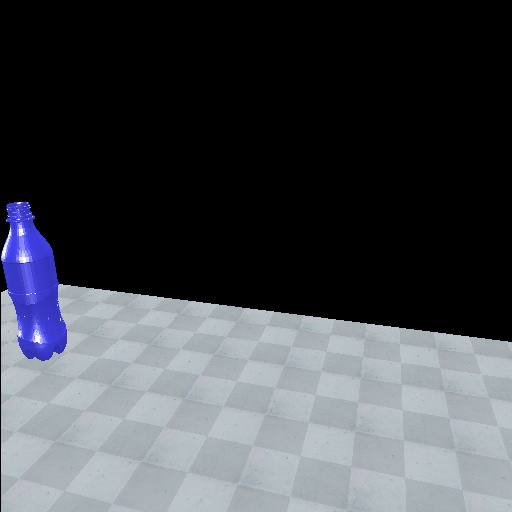bottle: (2, 197, 71, 362)
